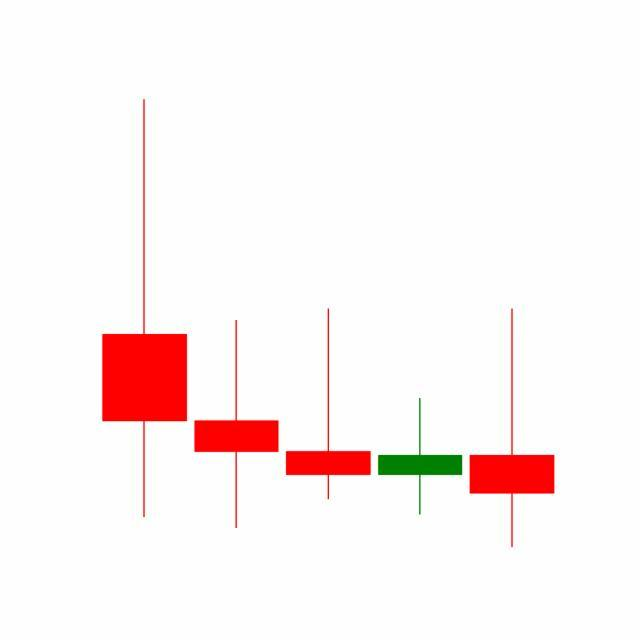Spinning Top: (466, 306, 559, 551)
